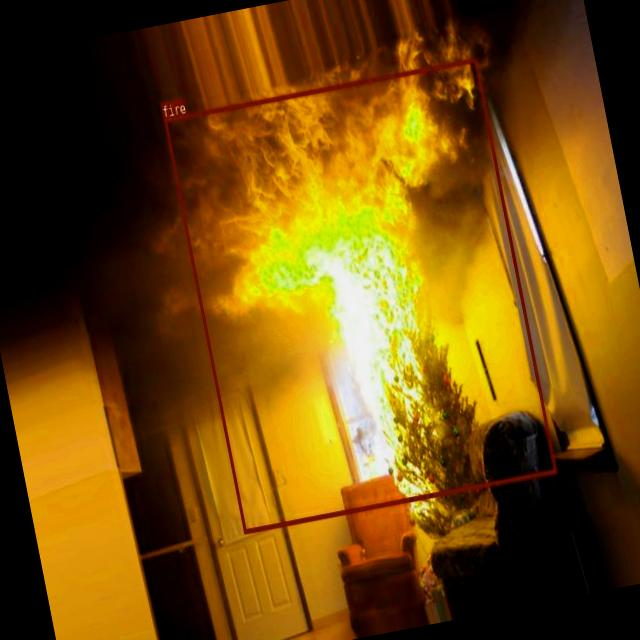fire: (163, 57, 557, 534)
